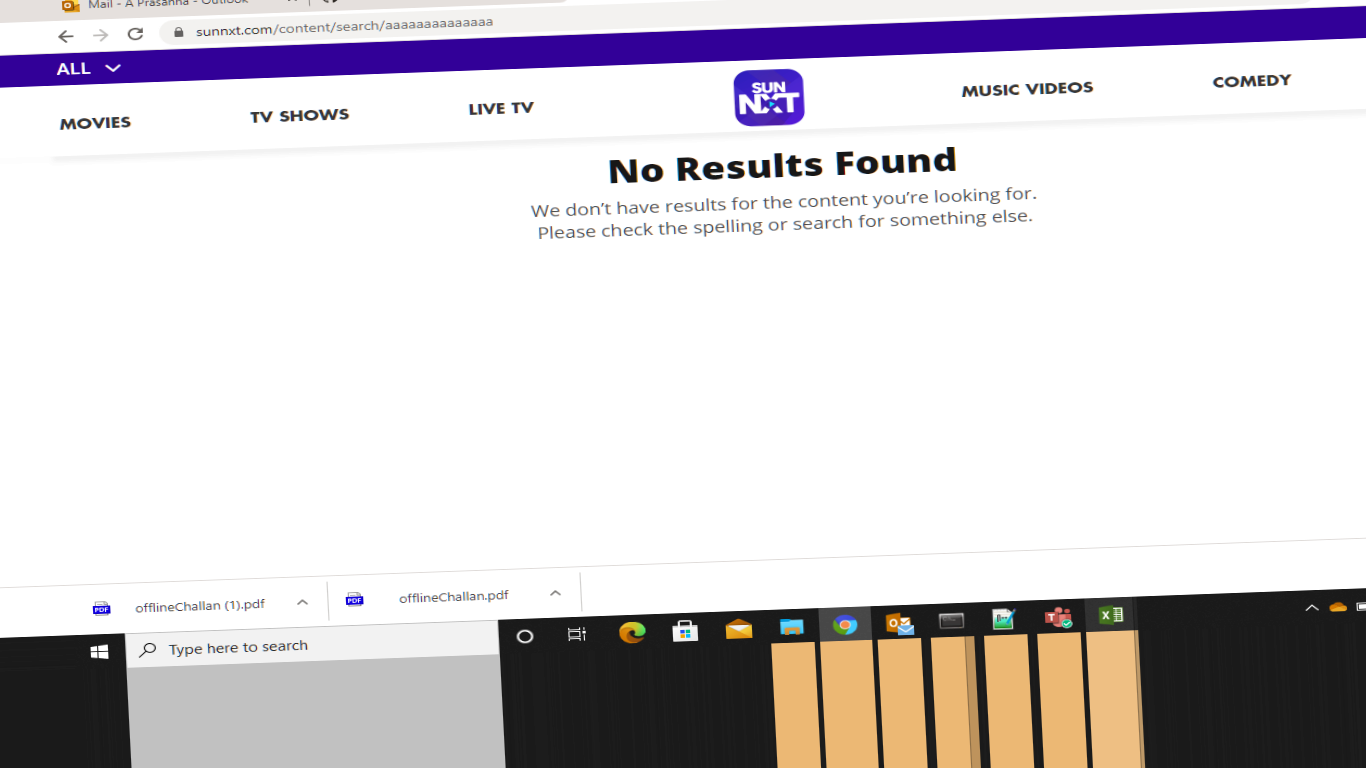noresultsfound: (505, 140, 1070, 256)
